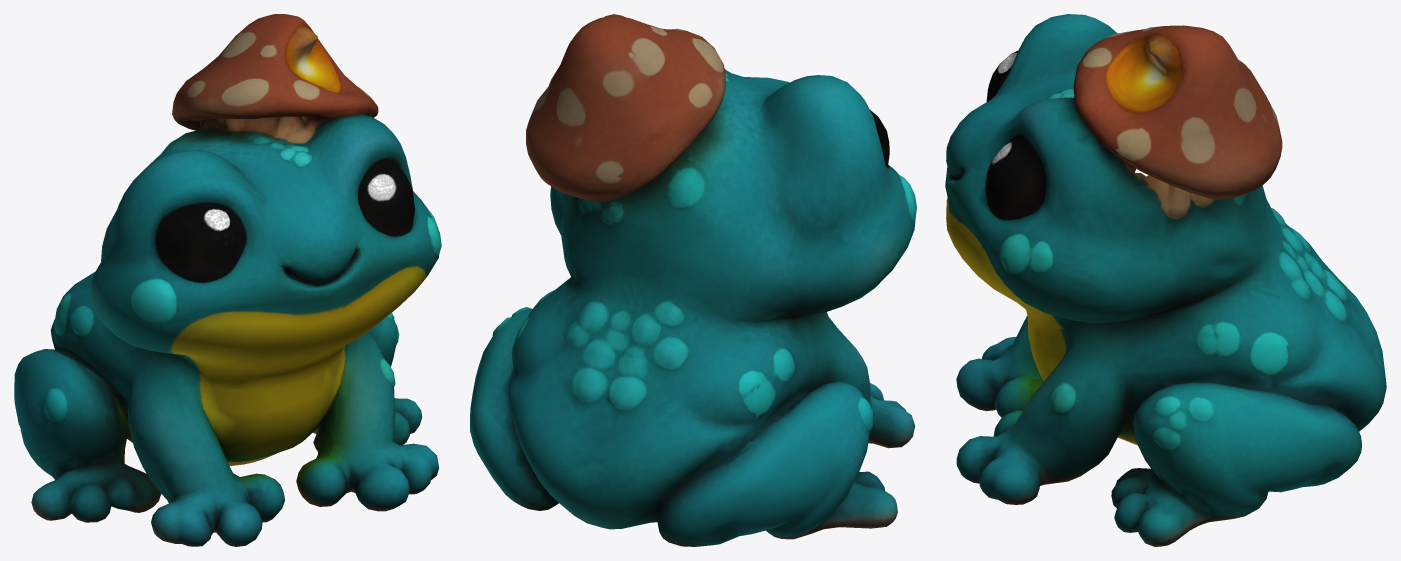
File: shimmerfrog.glb
The picture shows the model from 3 angles, left to right: view 1: azimuth 30°, elevation 25°; view 2: azimuth 150°, elevation 25°; view 3: azimuth 270°, elevation 25°; orthographic projection. The views are drawn at different scales.
Parts seen in each view (by area): view 1: shimmerfrog; view 2: shimmerfrog; view 3: shimmerfrog.
Part boxes in pixels (box(x1,y1,x2,y2)): shimmerfrog: box(14, 14, 441, 546); shimmerfrog: box(470, 14, 916, 546); shimmerfrog: box(945, 14, 1386, 546).
Size of the model in its own units: 0.9326 by 1 by 0.8709.
1 material, 1 textured.
